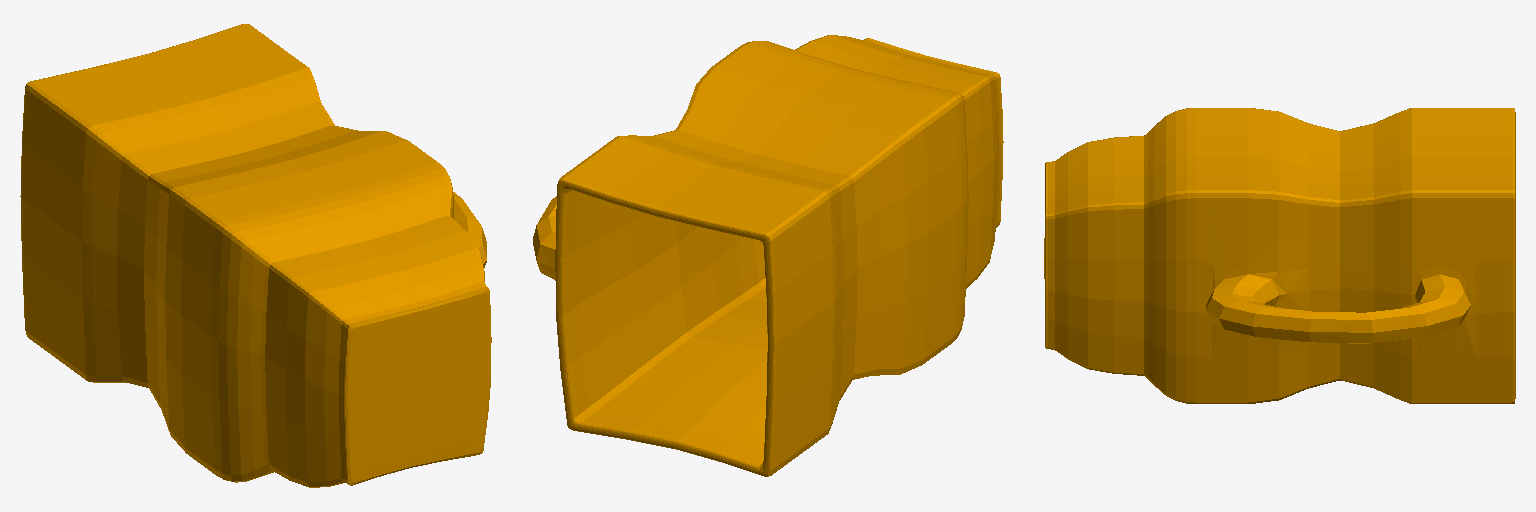
URDF robot description (287):
<?xml version="1.0" ?>
<robot name="287">
  <link name="body">
    <visual>
      <geometry>
        <mesh filename="../shapes/287.obj"/>
      </geometry>
    </visual>
    <collision>
      <geometry>
        <mesh filename="../shapes/287.obj"/>
      </geometry>
    </collision>
  </link>
</robot>

--- Facts derived from the render (not from the file) ---
Views: 3 orthographic renders of the robot side by side, from view 1: azimuth 30°, elevation 25°; view 2: azimuth 150°, elevation 25°; view 3: azimuth 270°, elevation 25°.
Model 287 with 1 links and 0 joints (none), rooted at body, posed all joints at 0.
Visible links, largest first — view 1: body; view 2: body; view 3: body.
Link boxes in pixels (left/top/right/bottom): body: left=20, top=24, right=491, bottom=487; body: left=533, top=35, right=1003, bottom=476; body: left=1044, top=108, right=1515, bottom=403.
Bounding box of the posed robot: 3.38 × 5.11 × 2.61 m (x, y, z).
1 mesh visuals loaded from 1 distinct referenced files (1 OBJ).